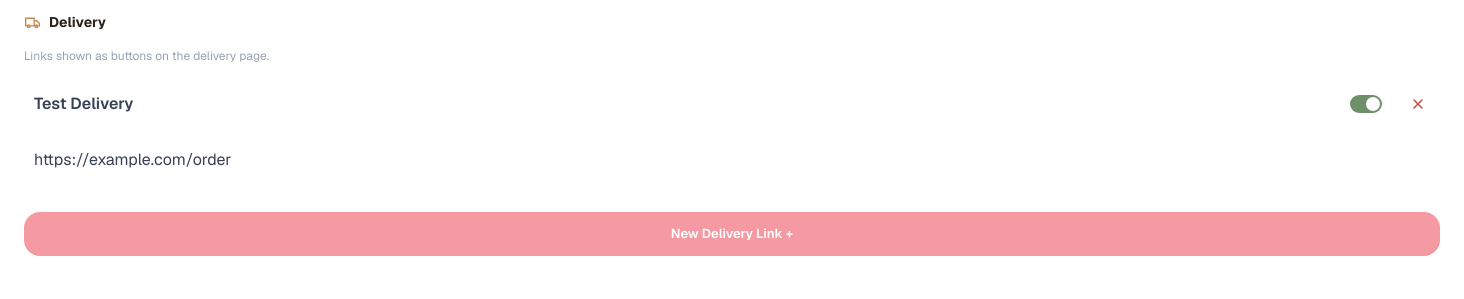
Scenario: admin delivery section › shows an error for an invalid delivery link: tea@example.com
This screenshot has width=1464, height=299.
# try invalid value then leave url field to trigger validation message
Step 1. Replace the text in the field named "Test Delivery delivery link" with "tea@example.com" → (732, 160), box [24,138,1440,182]
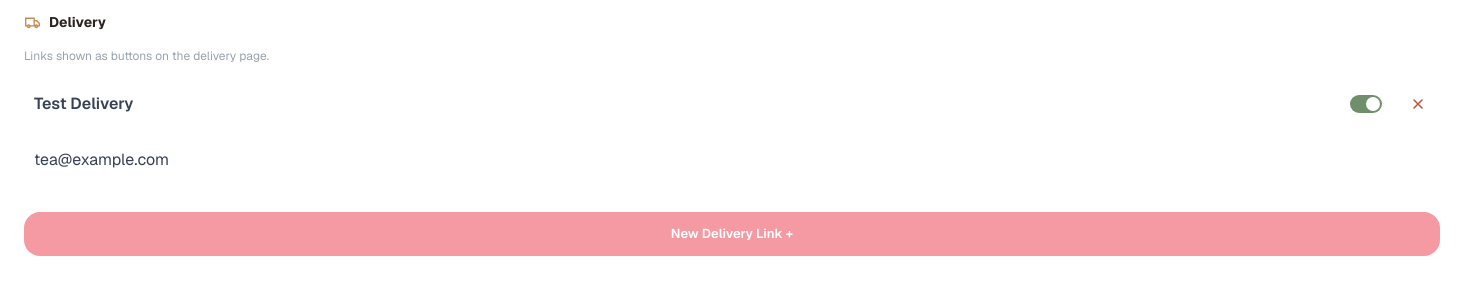
Step 2. Leave the field named "Test Delivery delivery link", box [24,138,1440,182]
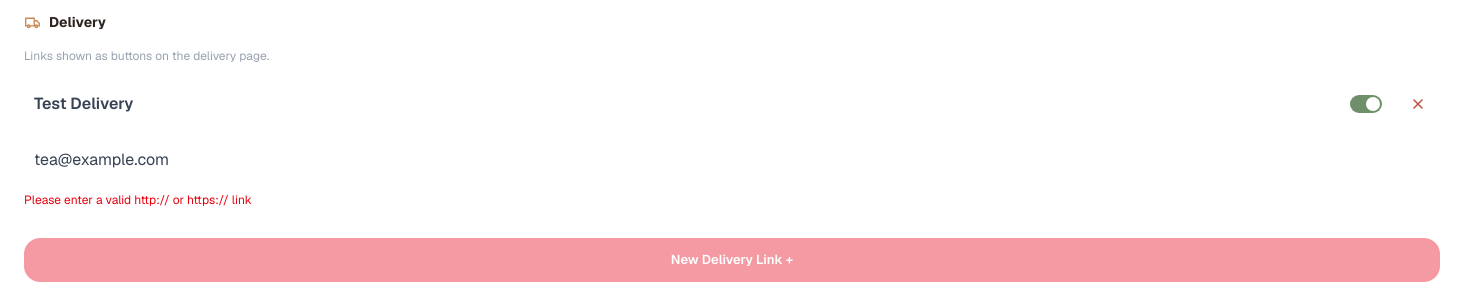
Expected: the text "Please enter a valid http:// or https:// link" is shown, [24,192,252,208]
